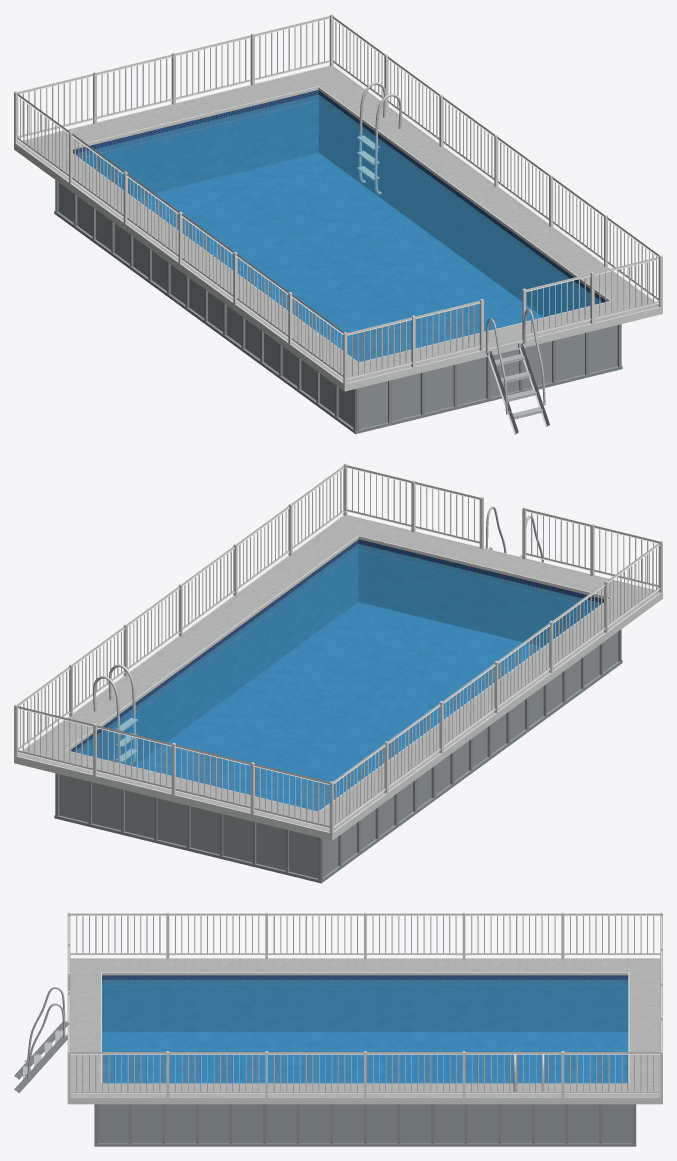
Rendered from kayak-pool-16x32-gray-walk-ag-fence.717f31d676.glb.
3 renders of one model, top to bottom at view 1: azimuth 30°, elevation 25°; view 2: azimuth 150°, elevation 25°; view 3: azimuth 270°, elevation 25°, orthographic. The views are drawn at different scales.
Visible parts, largest first — view 1: water, liner_floor, fence, liner_wall, deck, wall, fascia, upright, ladder, steel; view 2: water, liner_floor, fence, liner_wall, deck, wall, fascia, upright, steel; view 3: water, liner_wall, liner_floor, deck, wall, fence, fascia, upright, ladder.
Boxes of the visible parts, left/top/right/bottom form: water: left=76, top=94, right=602, bottom=361; liner_floor: left=134, top=153, right=542, bottom=361; fence: left=14, top=14, right=662, bottom=384; liner_wall: left=73, top=90, right=606, bottom=316; deck: left=17, top=66, right=658, bottom=382; wall: left=58, top=182, right=617, bottom=429; fascia: left=14, top=65, right=662, bottom=391; upright: left=54, top=180, right=622, bottom=434; ladder: left=485, top=309, right=549, bottom=434; steel: left=357, top=82, right=401, bottom=194; water: left=74, top=544, right=600, bottom=811; liner_floor: left=134, top=602, right=542, bottom=811; fence: left=14, top=463, right=662, bottom=833; liner_wall: left=70, top=539, right=603, bottom=766; deck: left=18, top=515, right=659, bottom=832; wall: left=59, top=632, right=618, bottom=878; fascia: left=14, top=514, right=662, bottom=840; upright: left=54, top=629, right=622, bottom=883; steel: left=93, top=664, right=137, bottom=765; water: left=102, top=979, right=628, bottom=1083; liner_wall: left=102, top=975, right=628, bottom=1031; liner_floor: left=102, top=1032, right=628, bottom=1083; deck: left=70, top=958, right=660, bottom=1097; wall: left=98, top=1104, right=632, bottom=1143; fence: left=67, top=912, right=662, bottom=1097; fascia: left=67, top=958, right=662, bottom=1104; upright: left=94, top=1104, right=636, bottom=1146; ladder: left=14, top=987, right=67, bottom=1093.
Size of the model in its own units: 6.1 by 2.15 by 11.96.
11 materials, 3 textured.
